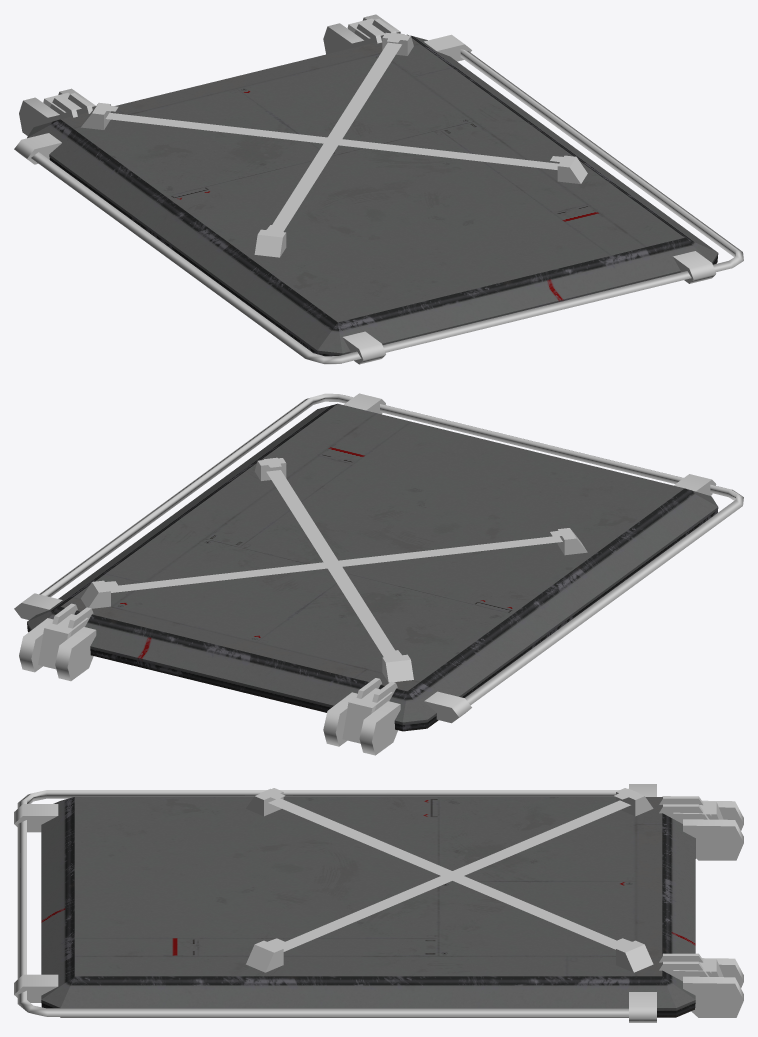
The model's file is Cover_Panel_Frame1_L2.fbx.
3 renders of one model, top to bottom at view 1: azimuth 30°, elevation 25°; view 2: azimuth 150°, elevation 25°; view 3: azimuth 270°, elevation 25°, orthographic. The views are drawn at different scales.
Visible parts, largest first — view 1: Panel, Frame; view 2: Panel, Frame; view 3: Panel, Frame.
Boxes of the visible parts, bbox=[...] form: Panel: bbox=[27, 34, 718, 356]; Frame: bbox=[14, 14, 743, 364]; Panel: bbox=[27, 403, 718, 731]; Frame: bbox=[14, 393, 743, 755]; Panel: bbox=[41, 797, 695, 1017]; Frame: bbox=[14, 784, 743, 1022].
Bounding box in the file's own units: 200 × 23.39 × 268.
